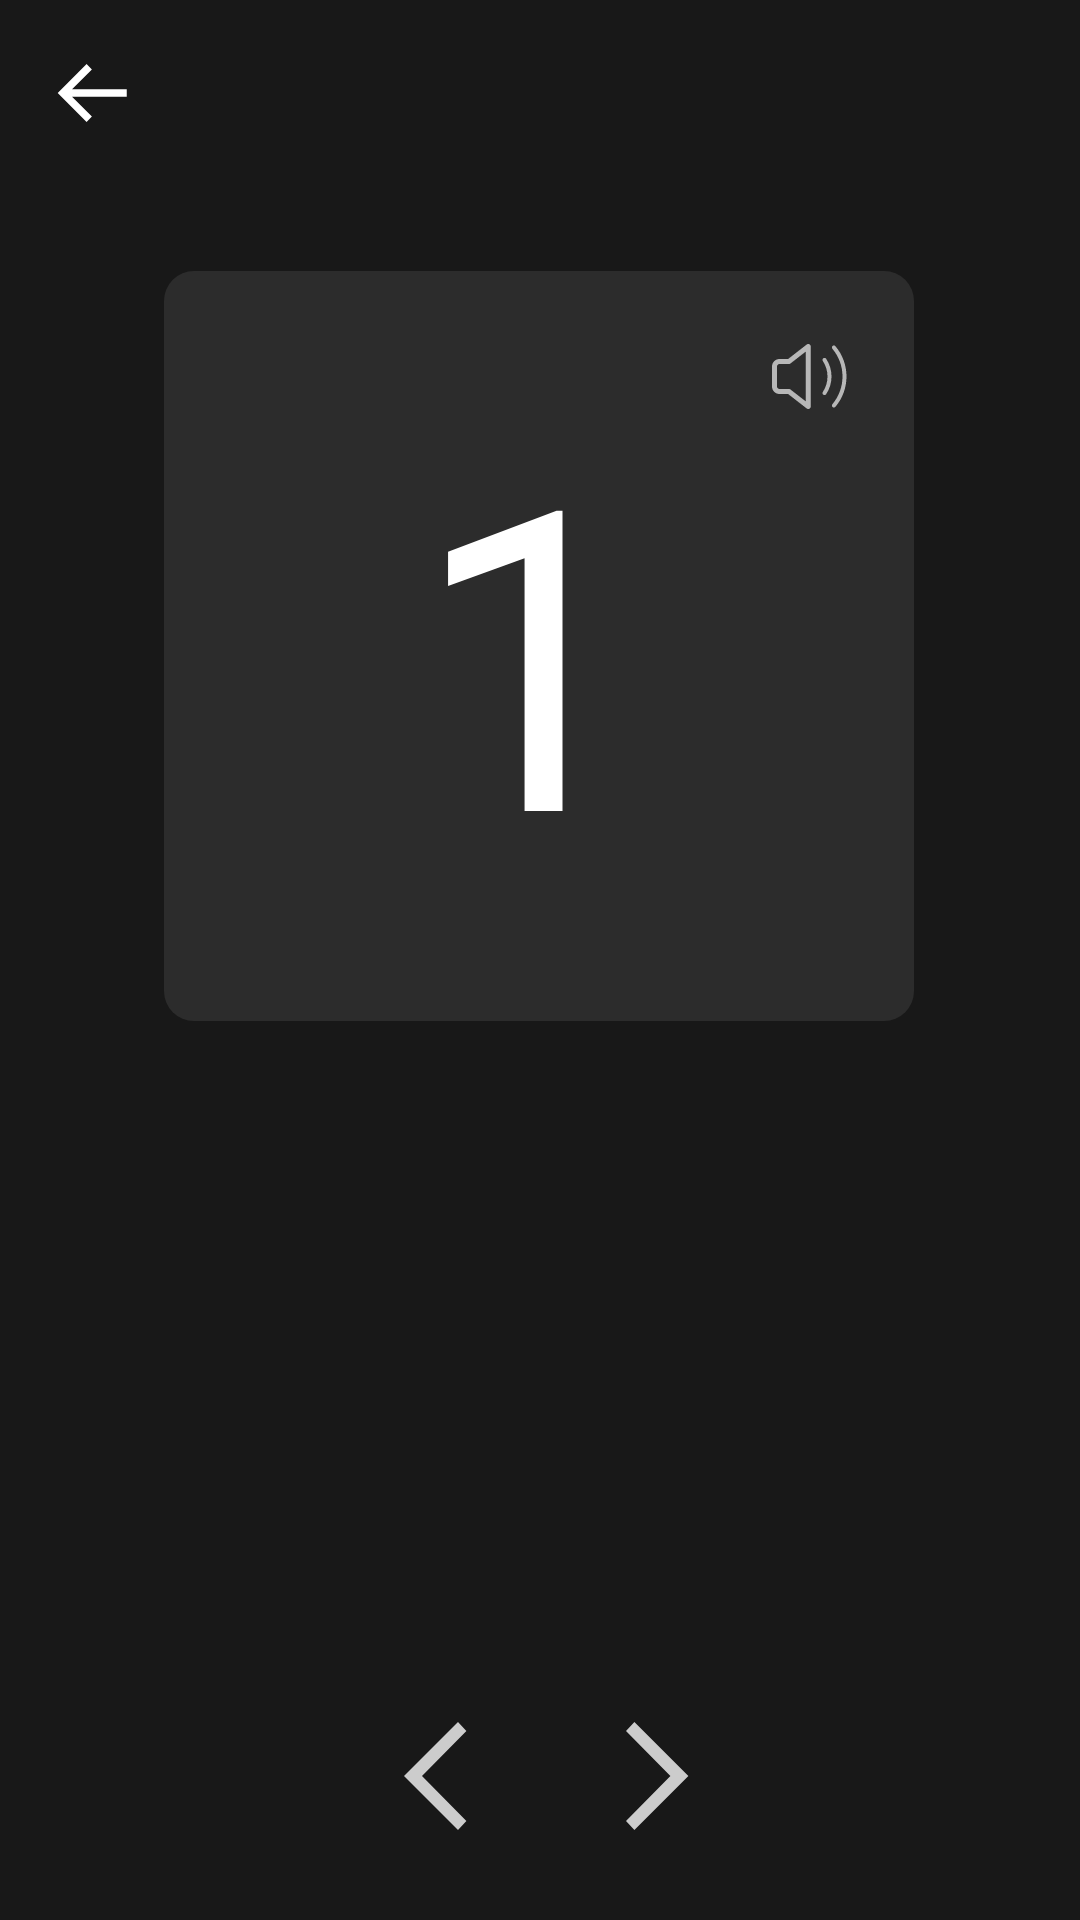

Screen size 1080px×1920px. Icon name, then its box in pixels as (x1, y1, x2, y2):
back: (58, 64, 127, 122)
next: (626, 1722, 688, 1830)
previous: (404, 1722, 466, 1830)
speaker: (772, 344, 847, 409)
